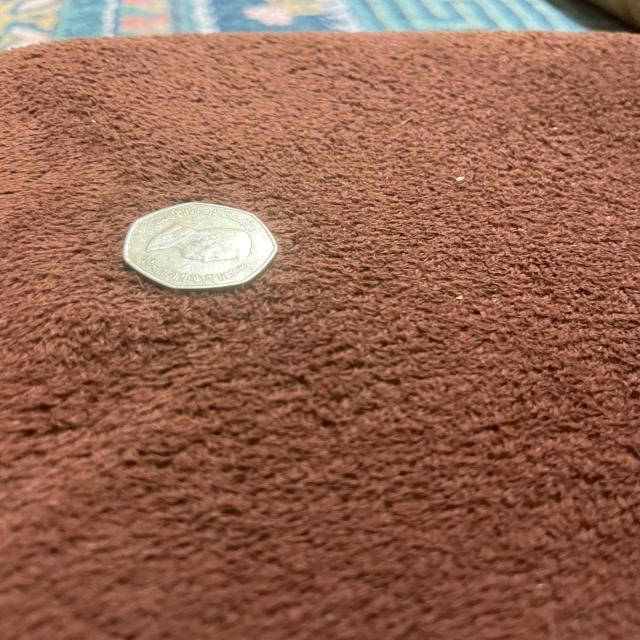25-coins: (122, 200, 279, 292)
